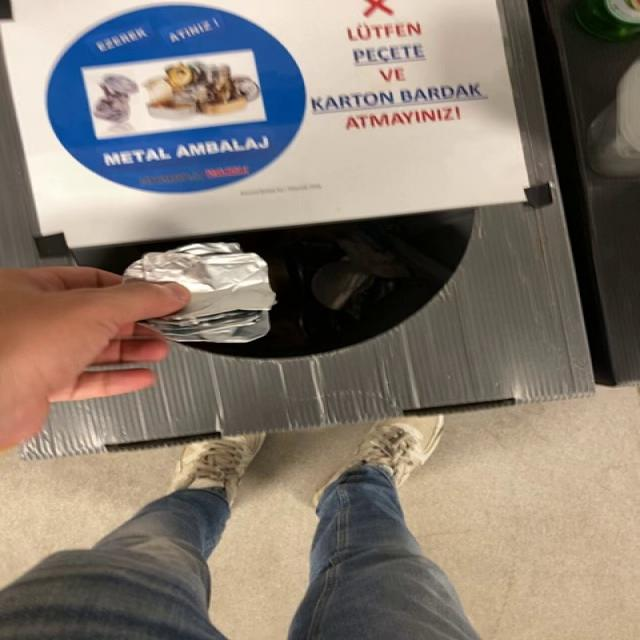bin: (0, 0, 593, 459)
metal: (123, 243, 276, 344)
